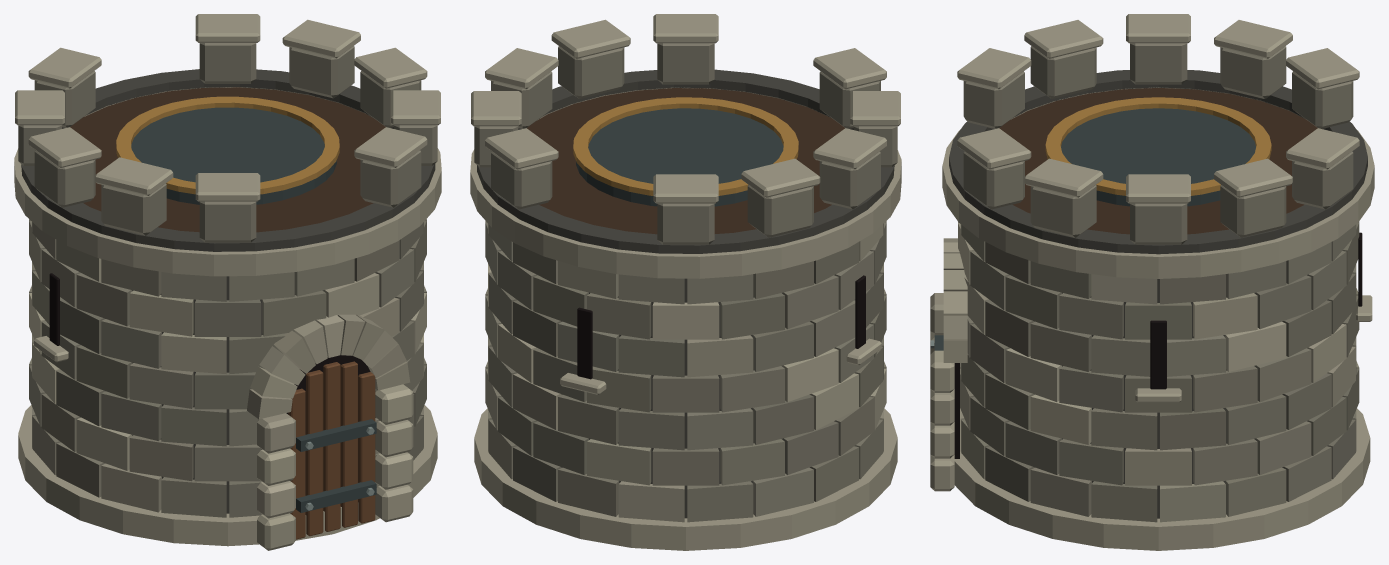
File: tower.glb
3 views of the same model, side by side, from view 1: azimuth 30°, elevation 25°; view 2: azimuth 150°, elevation 25°; view 3: azimuth 270°, elevation 25° (orthographic).
Visible parts, largest first — view 1: Stone, Timber, Metal; view 2: Stone, Metal, Timber; view 3: Stone, Metal, Timber.
Part boxes in pixels (bbox=[...]): Stone: bbox=[14, 14, 441, 550]; Timber: bbox=[70, 87, 385, 539]; Metal: bbox=[116, 96, 376, 512]; Stone: bbox=[470, 14, 901, 550]; Metal: bbox=[573, 97, 798, 206]; Timber: bbox=[527, 88, 844, 234]; Stone: bbox=[930, 14, 1374, 550]; Metal: bbox=[930, 97, 1271, 350]; Timber: bbox=[999, 88, 1317, 234].
Bounding box in the file's own units: 3.92 × 3.58 × 4.03.
